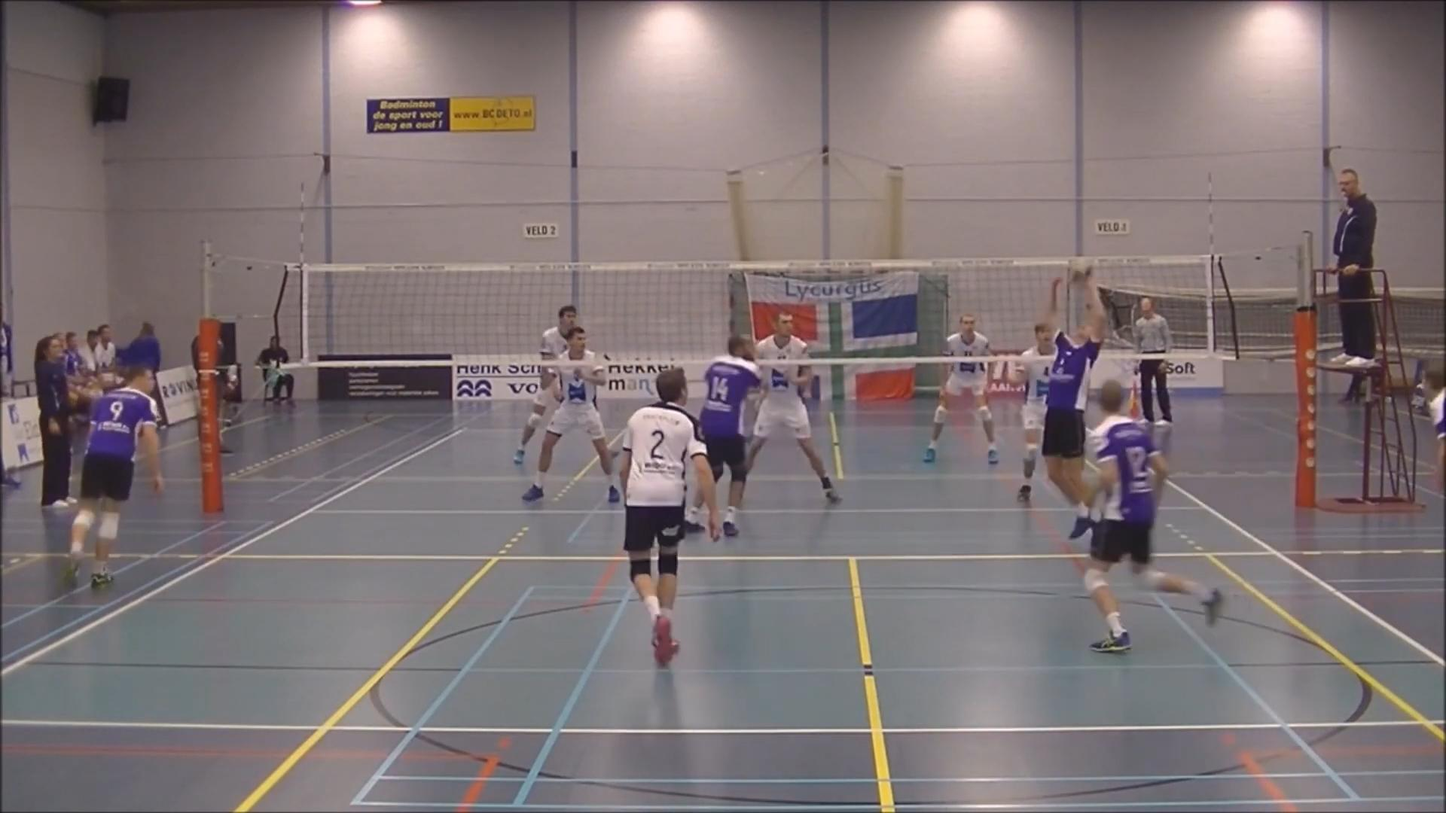Player: (1083, 380, 1223, 652), (620, 368, 719, 664), (65, 367, 162, 587), (746, 312, 840, 504), (523, 326, 620, 502), (698, 336, 761, 536), (924, 313, 998, 464), (514, 305, 576, 464), (1010, 324, 1054, 501)
Set: (1040, 269, 1114, 548)
ball: (1066, 261, 1094, 289)
